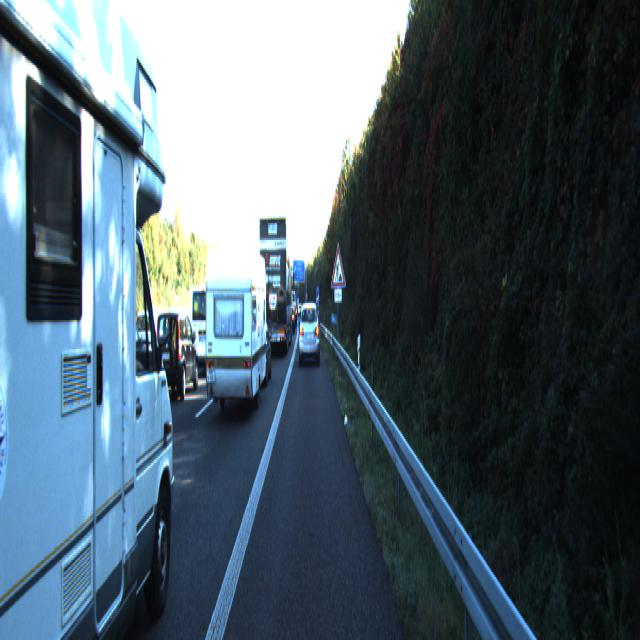Car: (0, 0, 187, 639), (204, 239, 266, 421), (260, 215, 292, 357), (152, 306, 199, 400), (189, 283, 232, 376), (135, 307, 174, 379), (298, 301, 320, 365)
